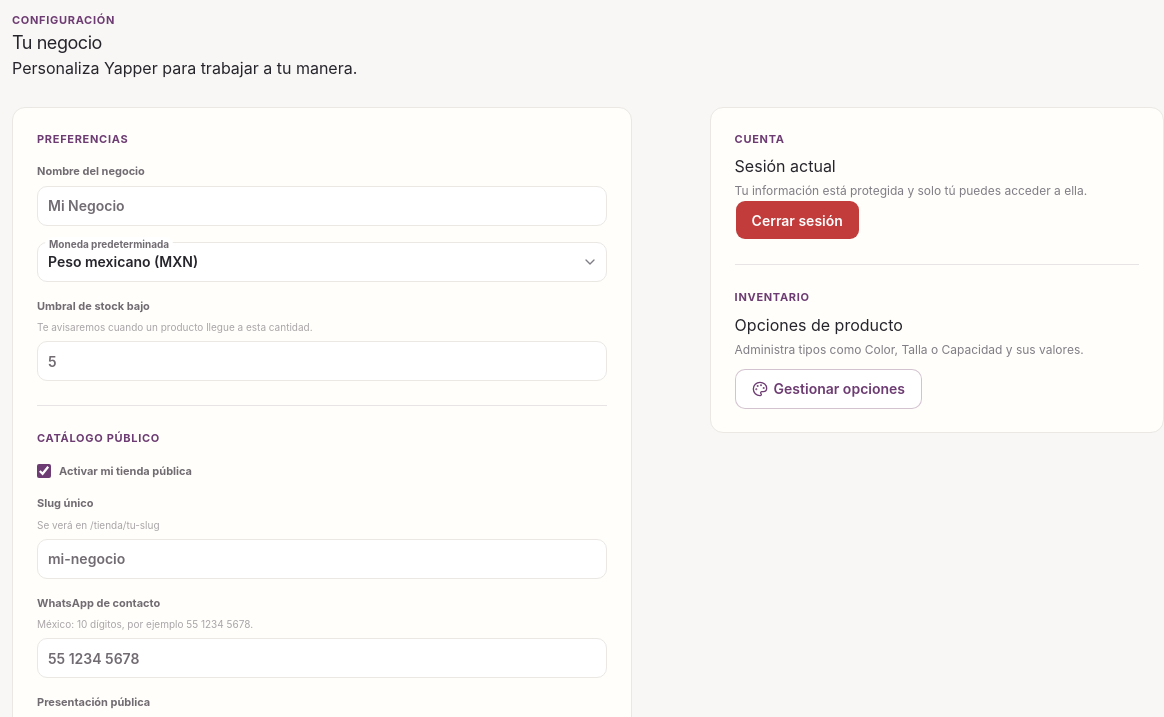
Scenario: SettingsPage › Interacciones › debería actualizar la moneda al cambiar
Click the dropdown named "moneda predeterminada" at x=123, y=262, box [37,242,607,282]
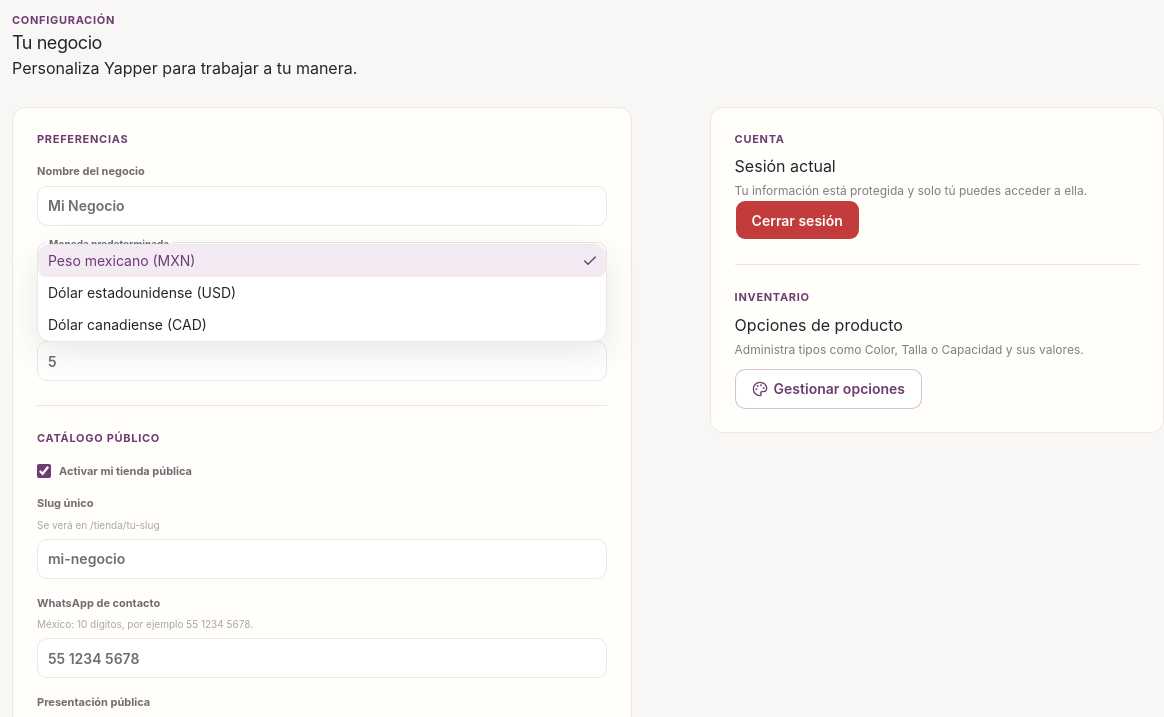
Click the option "Dólar estadounidense (USD)" at x=142, y=292, box [48,284,236,300]
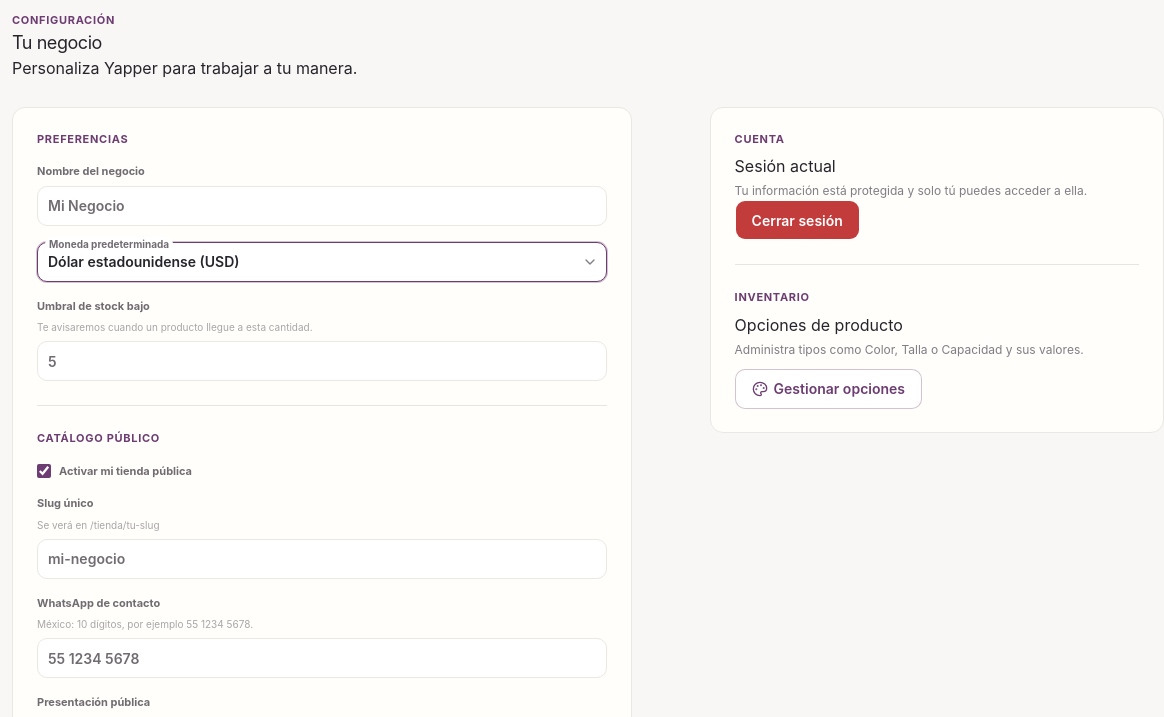
Expected: the dropdown named "moneda predeterminada" shows "Dólar estadounidense (USD)", [37,242,607,282]
